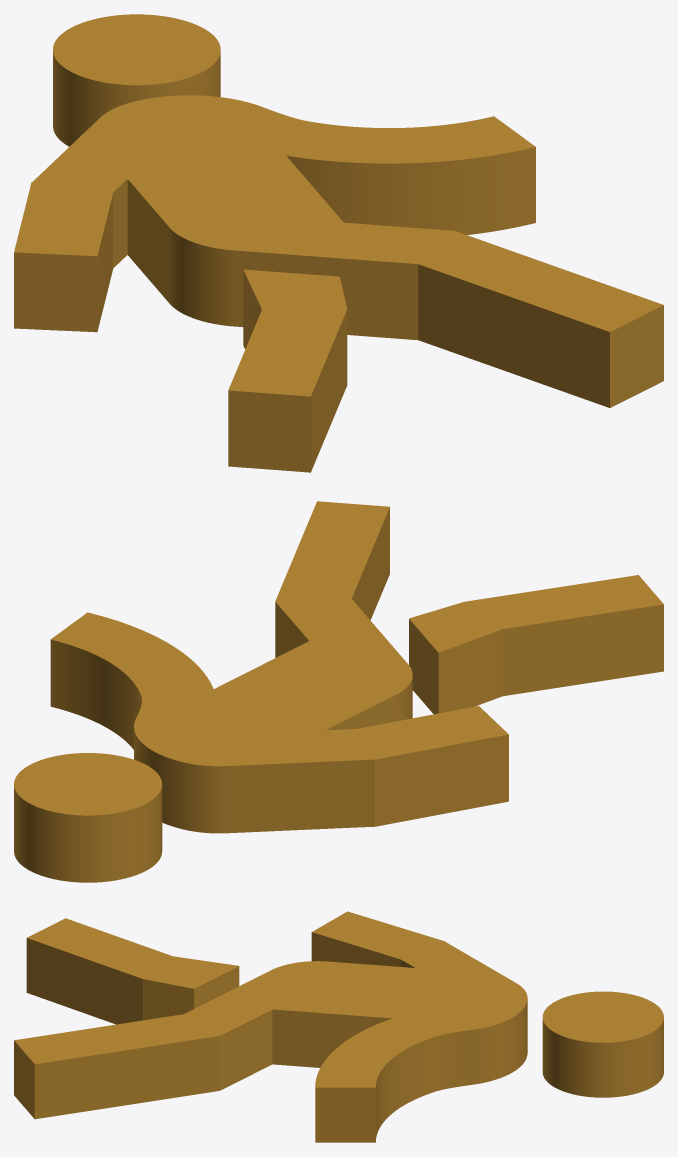
Rendered from walk.glb.
The picture shows the model from 3 angles, top to bottom: view 1: azimuth 30°, elevation 25°; view 2: azimuth 150°, elevation 25°; view 3: azimuth 270°, elevation 25°; orthographic projection. The views are drawn at different scales.
Visible parts, largest first — view 1: Path; view 2: Path; view 3: Path.
Boxes of the visible parts, x1=… form: Path: x1=14, y1=14, x2=663, y2=472; Path: x1=14, y1=501, x2=663, y2=882; Path: x1=14, y1=911, x2=663, y2=1142.
Size of the model in its own units: 0.0153 by 0.00223 by 0.0239.
